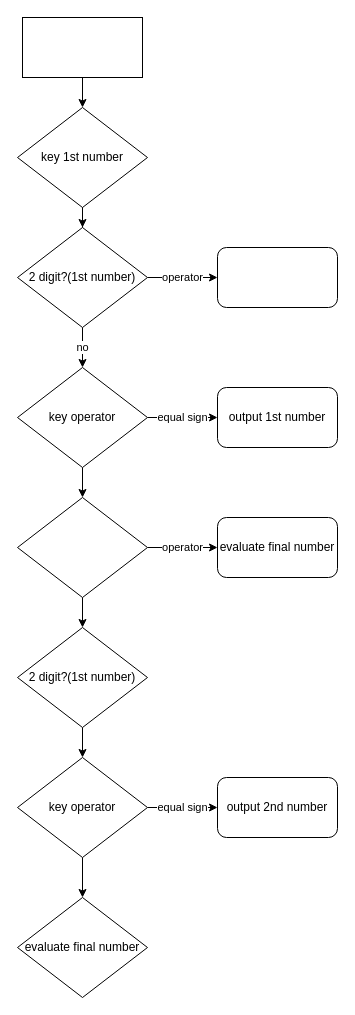
This 355x1015 diagram has some shape labels left out. Here are the shapes that lost their labels. From the top down, the centre of each, then its label:
At [82,47]: "start".
At [277,277]: "no change".
At [82,547]: "key 2nd number".
